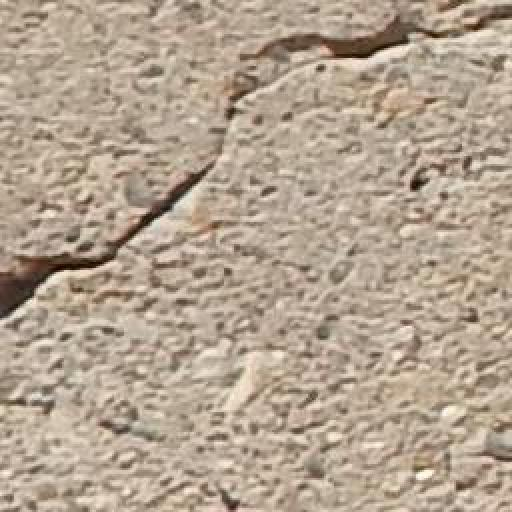spalling: (6, 0, 505, 337)
